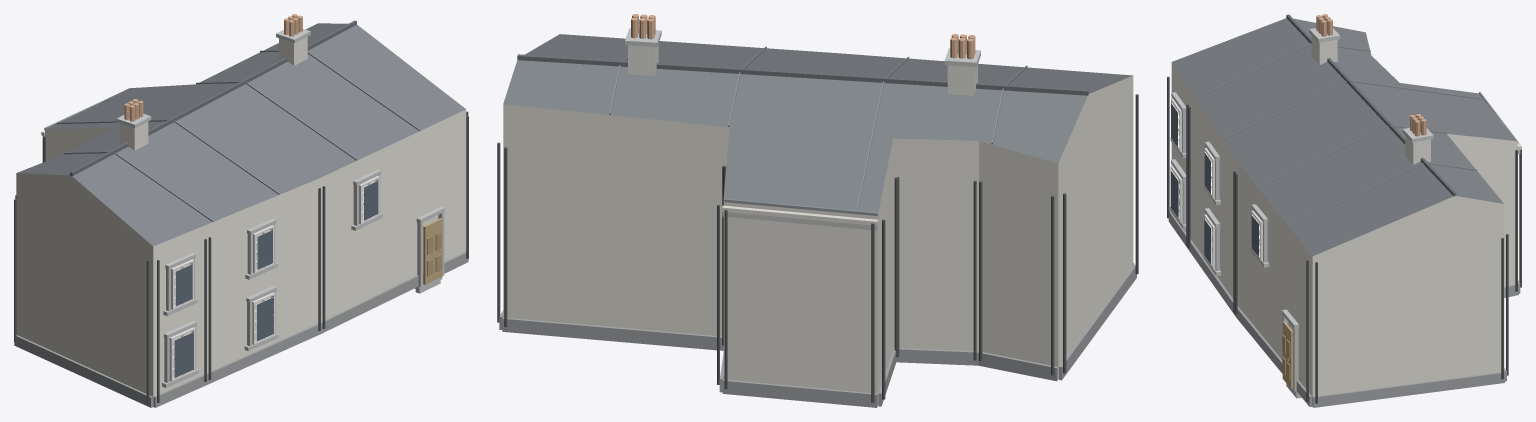
3 views of the same model, side by side, from view 1: azimuth 30°, elevation 25°; view 2: azimuth 150°, elevation 25°; view 3: azimuth 270°, elevation 25° (orthographic). The views are drawn at different scales.
Visible parts, largest first — view 1: harl_cream, slate, plinth, stone_band, pipe, frame, slate_lt, slate_dk, chim_render, door_wood, window_glass_001, pot (+5 smaller); view 2: harl_cream, slate, plinth, pipe, slate_dk, chim_render, stone_band, pot, string, slate_lt, lead; view 3: harl_cream, slate, pipe, plinth, stone_band, slate_lt, frame, chim_render, slate_dk, pot, door_wood, window_glass_001.
Boxes of the visible parts, x1,y1,x2,y2 form: harl_cream: (16, 109, 466, 406); slate: (17, 23, 465, 246); plinth: (14, 251, 468, 407); stone_band: (42, 29, 445, 387); pipe: (14, 111, 468, 402); frame: (169, 176, 379, 381); slate_lt: (57, 50, 420, 221); slate_dk: (70, 20, 356, 176); chim_render: (119, 36, 307, 150); door_wood: (423, 218, 442, 284); window_glass_001: (174, 332, 193, 377); pot: (124, 14, 302, 121); harl_cream: (503, 75, 1133, 405); slate: (503, 34, 1132, 213); plinth: (499, 263, 1136, 407); pipe: (497, 94, 1138, 402); slate_dk: (517, 54, 1088, 95); chim_render: (628, 44, 977, 95); stone_band: (625, 28, 980, 230); pot: (631, 14, 975, 59); string: (721, 205, 878, 225); slate_lt: (609, 46, 1027, 210); lead: (723, 199, 877, 215); harl_cream: (1171, 63, 1517, 406); slate: (1171, 18, 1516, 256); pipe: (1167, 76, 1521, 403); plinth: (1168, 211, 1520, 407); stone_band: (1170, 28, 1520, 398); slate_lt: (1195, 43, 1484, 227); frame: (1170, 98, 1262, 268); chim_render: (1311, 36, 1430, 164); slate_dk: (1286, 14, 1456, 196); pot: (1316, 14, 1426, 136); door_wood: (1282, 321, 1293, 388); window_glass_001: (1170, 170, 1178, 218).
Bounding box in the file's own units: 16.49 × 8.82 × 11.88.
